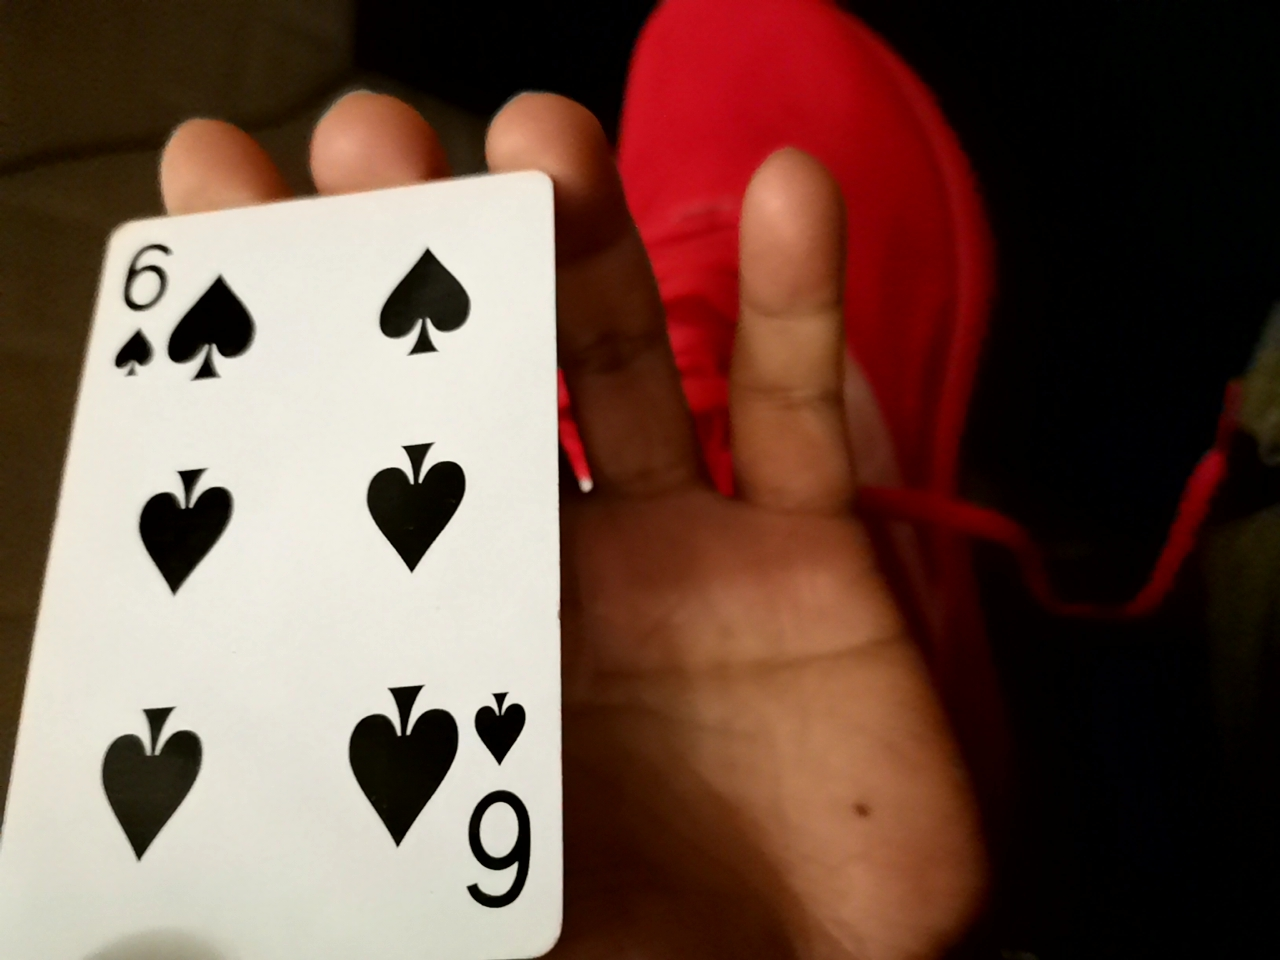ht 6: (16, 156, 586, 952)
